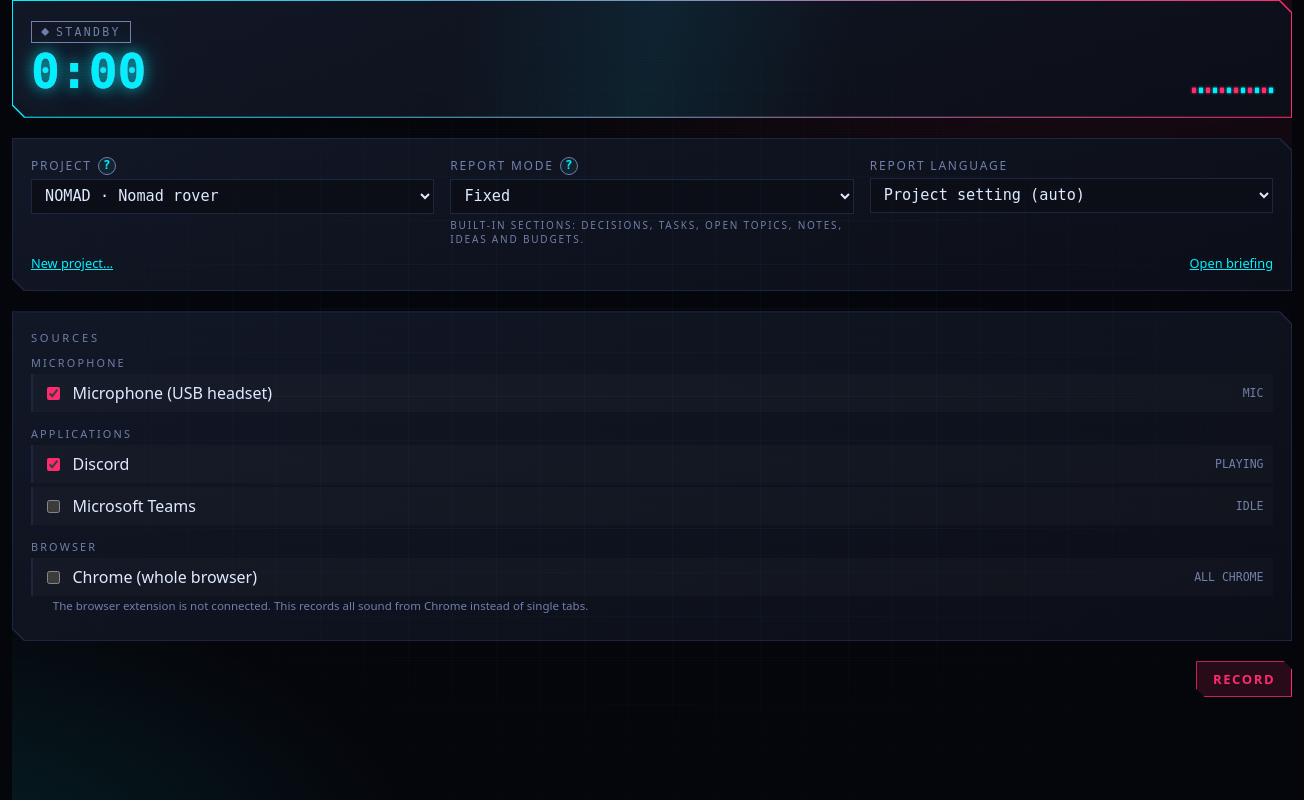
RecorderPanel › restores persisted sources, auto-saves toggled sources, records and returns to standby on stop
Toggle Teams checkbox and verify saveLastSources was updated.
Click the checkbox labelled "Microsoft Teams idle": [53, 506] box top-left (46, 500), bottom-right (60, 513)
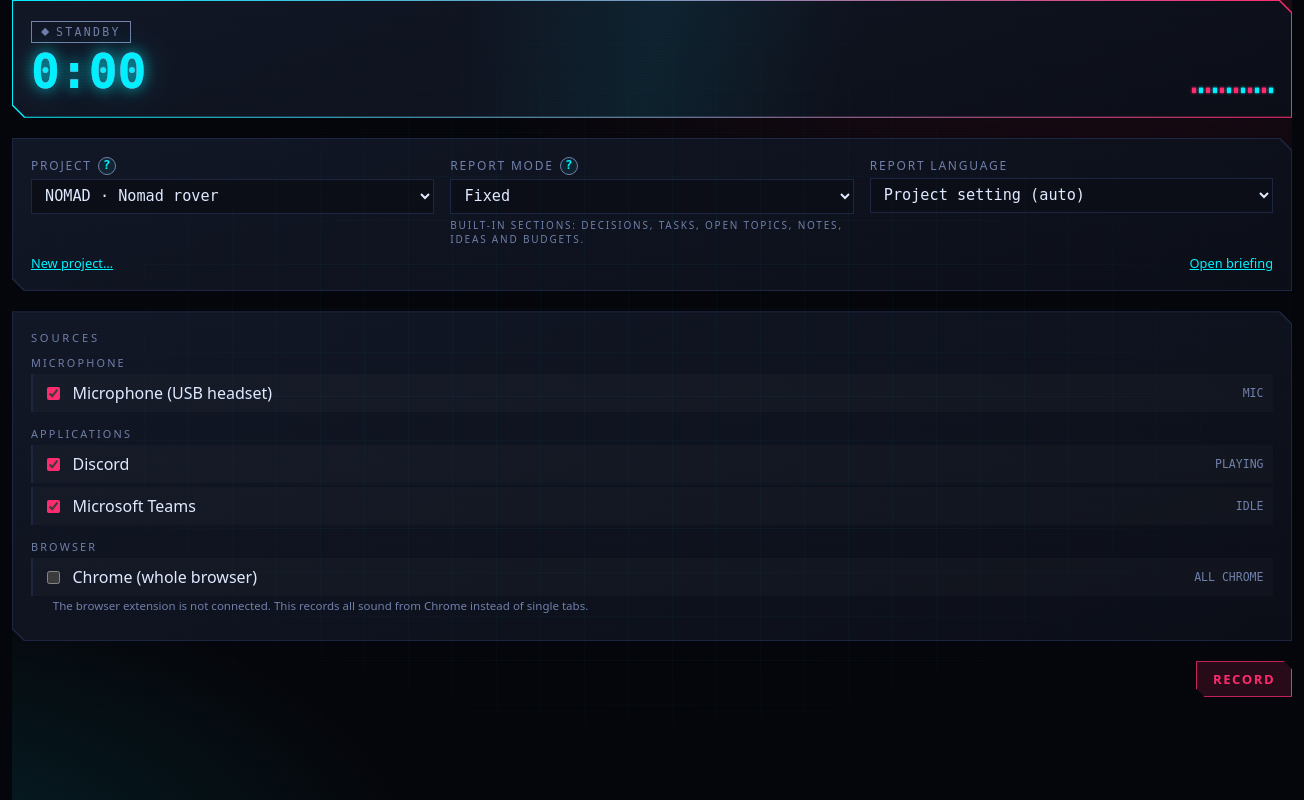
Click the button with class "btn-record": [1244, 679] box top-left (1196, 661), bottom-right (1292, 697)
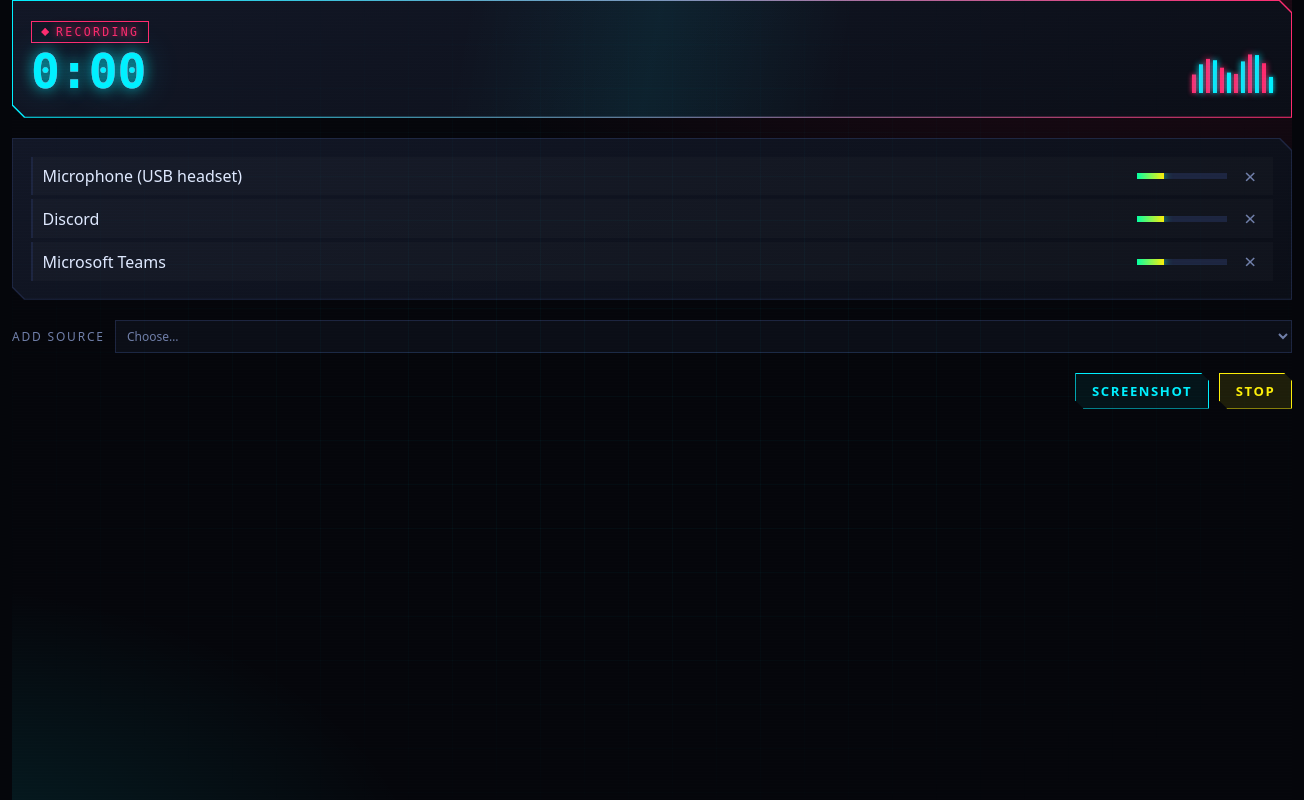
Now the button with class "btn-stop" is shown
Click the button with class "btn-stop": [1256, 391] box top-left (1219, 373), bottom-right (1292, 409)
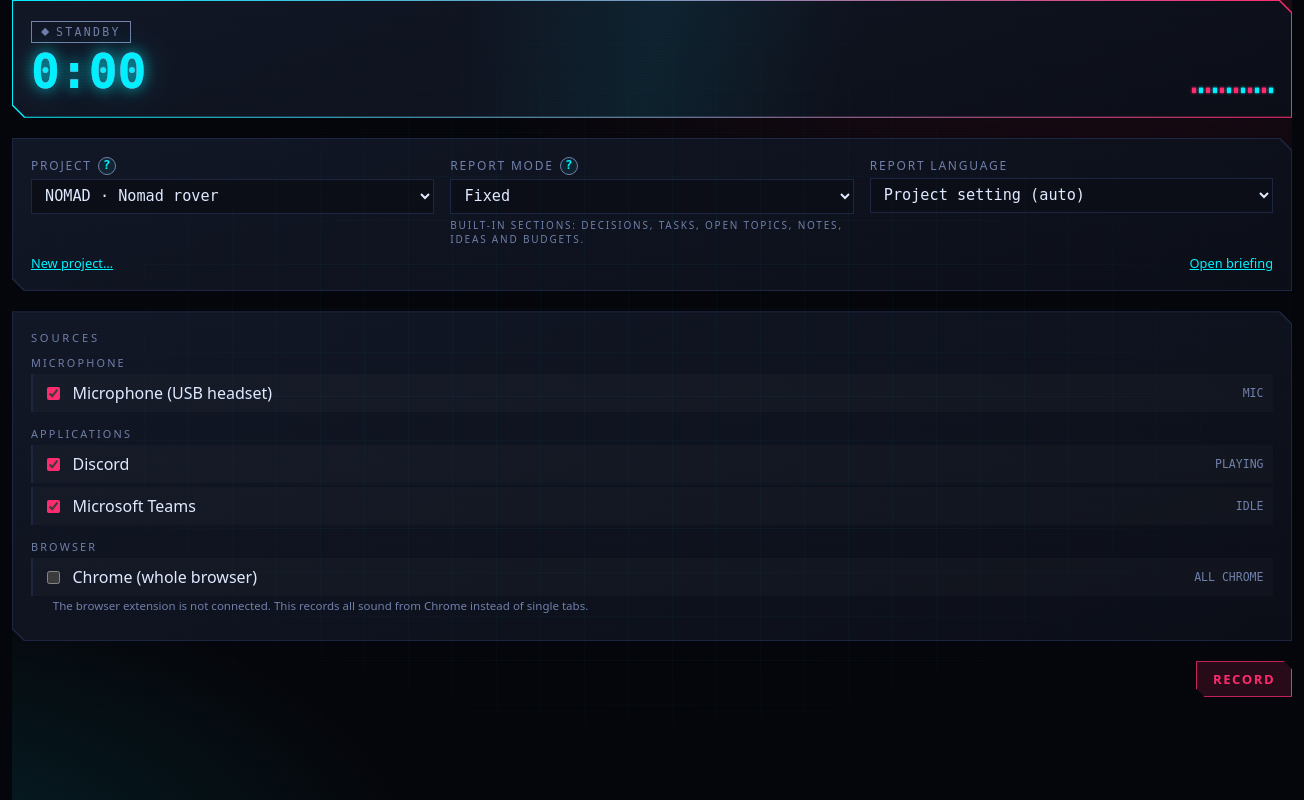
Now the text "Standby" is shown, box top-left (31, 21), bottom-right (131, 43)
